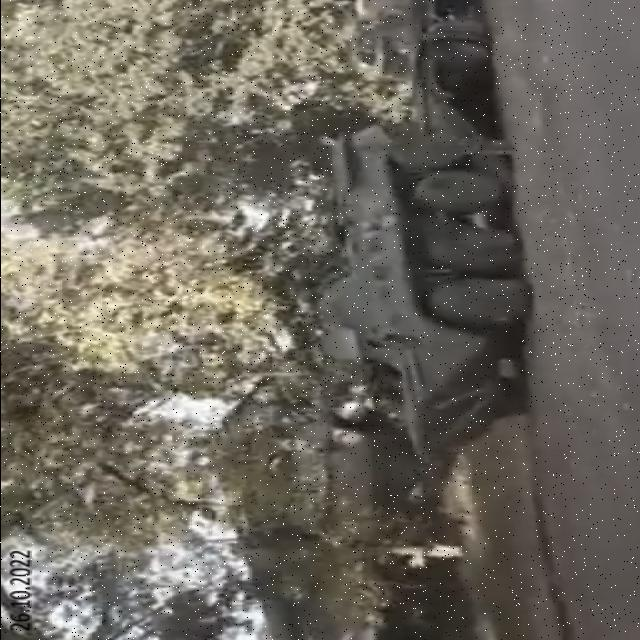APC-IFV: (278, 121, 526, 466)
